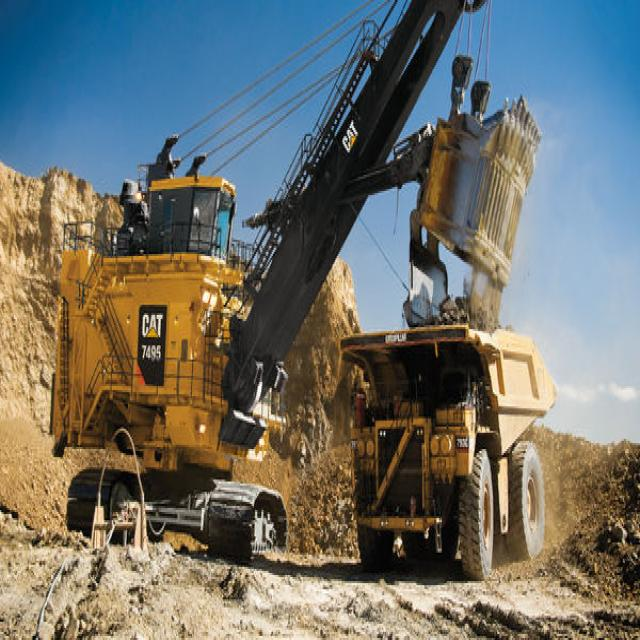dump_truck: (327, 297, 588, 599)
